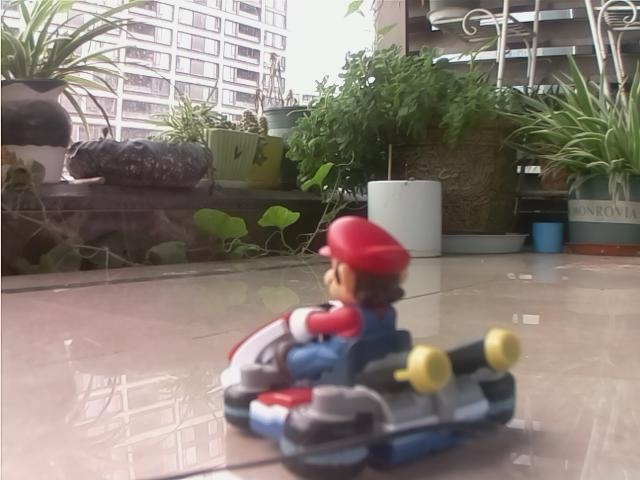mario: (217, 207, 529, 480)
